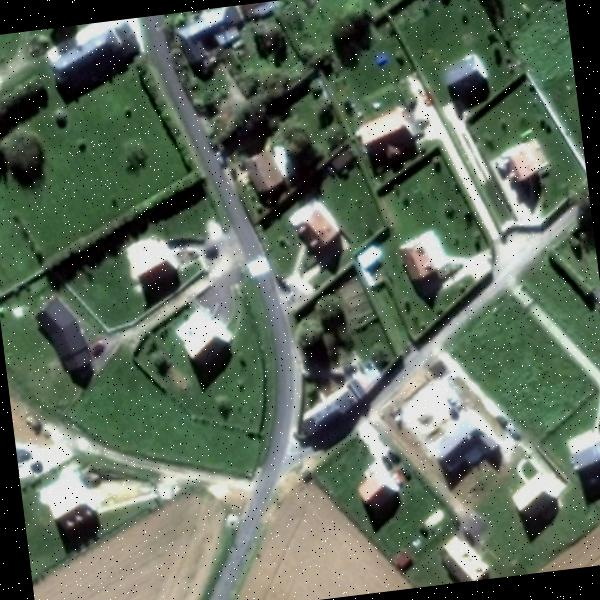Buildings: (294, 347, 395, 433), (31, 290, 97, 380), (50, 26, 136, 90), (236, 142, 297, 208), (392, 222, 449, 292), (436, 419, 504, 475), (178, 4, 250, 44), (433, 540, 497, 584), (45, 468, 94, 519), (504, 482, 557, 528), (178, 320, 238, 360), (288, 204, 338, 251), (360, 120, 417, 157), (132, 242, 176, 284), (447, 58, 486, 102), (360, 475, 400, 514), (508, 145, 549, 179), (573, 449, 600, 481)
